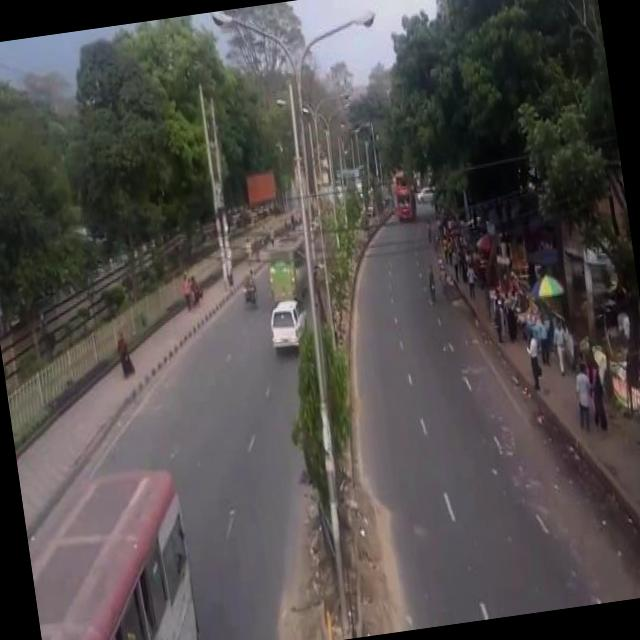bus: (19, 453, 205, 640), (260, 229, 312, 304), (389, 168, 418, 222)
car: (264, 294, 312, 354)
